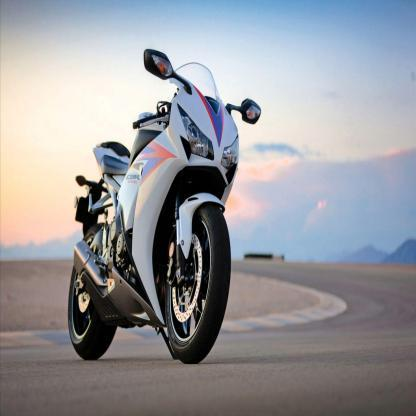Motorcycle: (55, 44, 264, 368)
